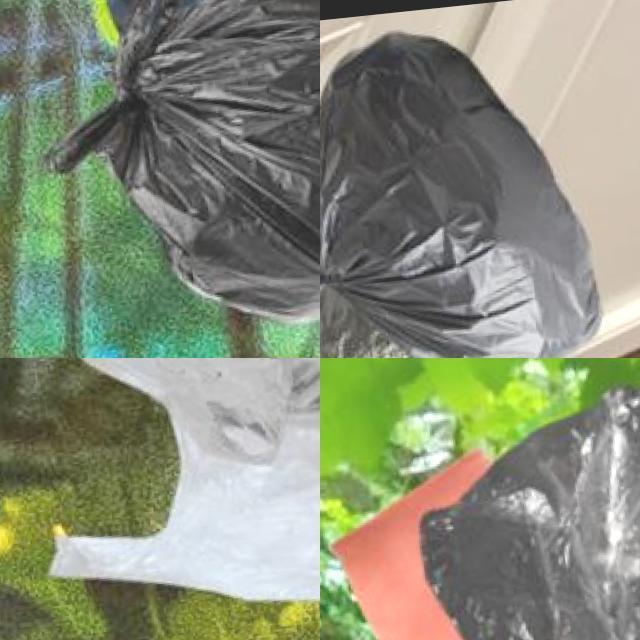waste: (320, 19, 626, 358), (72, 0, 320, 353), (25, 358, 320, 622), (338, 432, 640, 640), (409, 370, 640, 640), (320, 182, 615, 358), (141, 358, 320, 455)
